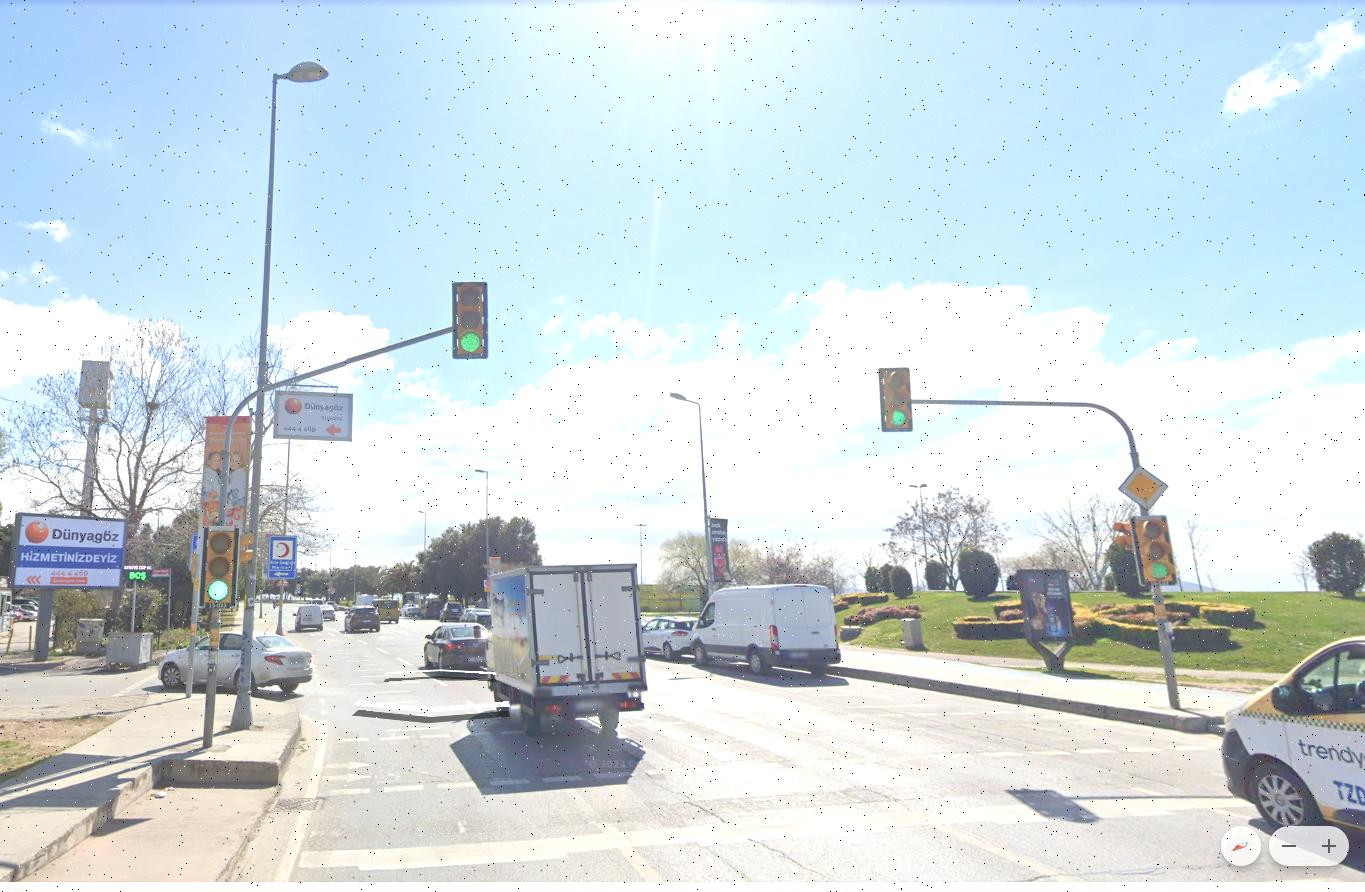redlight: (202, 524, 236, 610), (449, 283, 486, 362), (1135, 513, 1172, 585), (880, 369, 917, 432)
